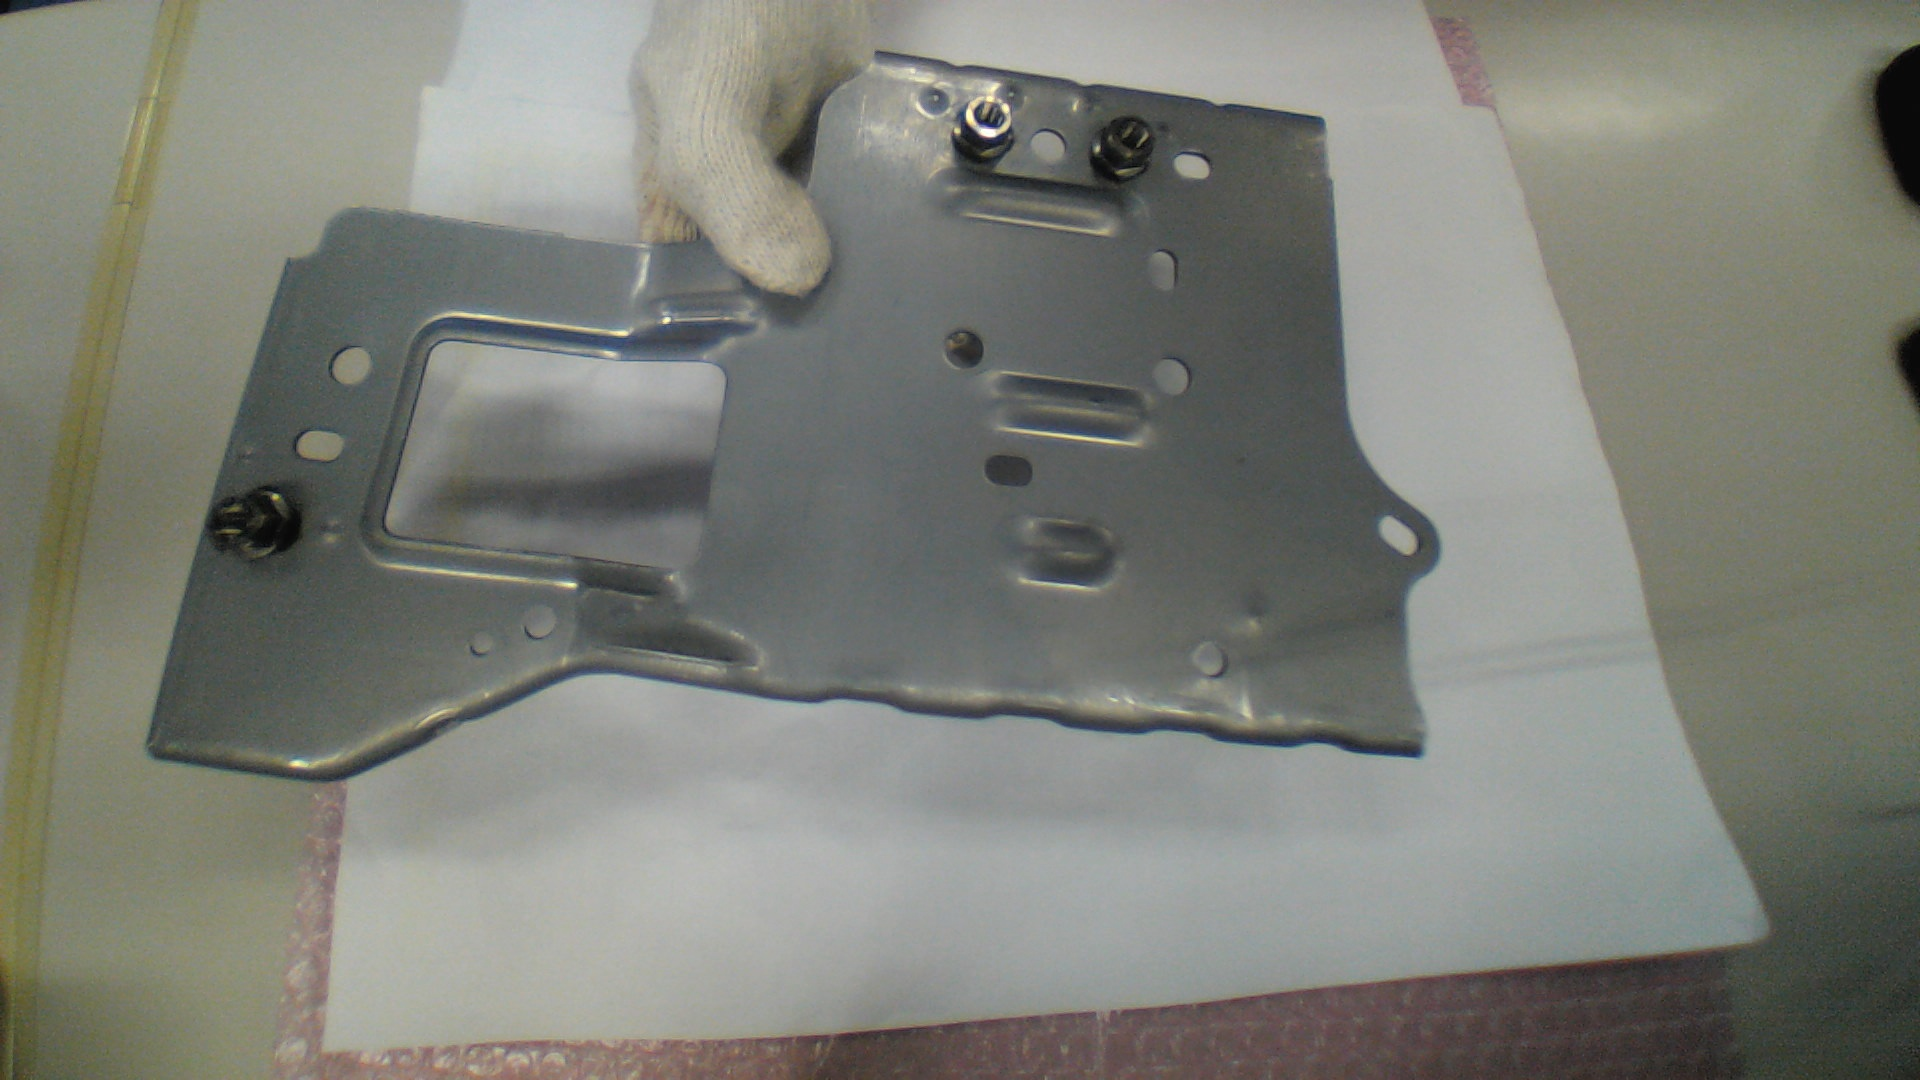dog: (204, 484, 301, 562), (1091, 112, 1155, 182), (955, 95, 1019, 164)
